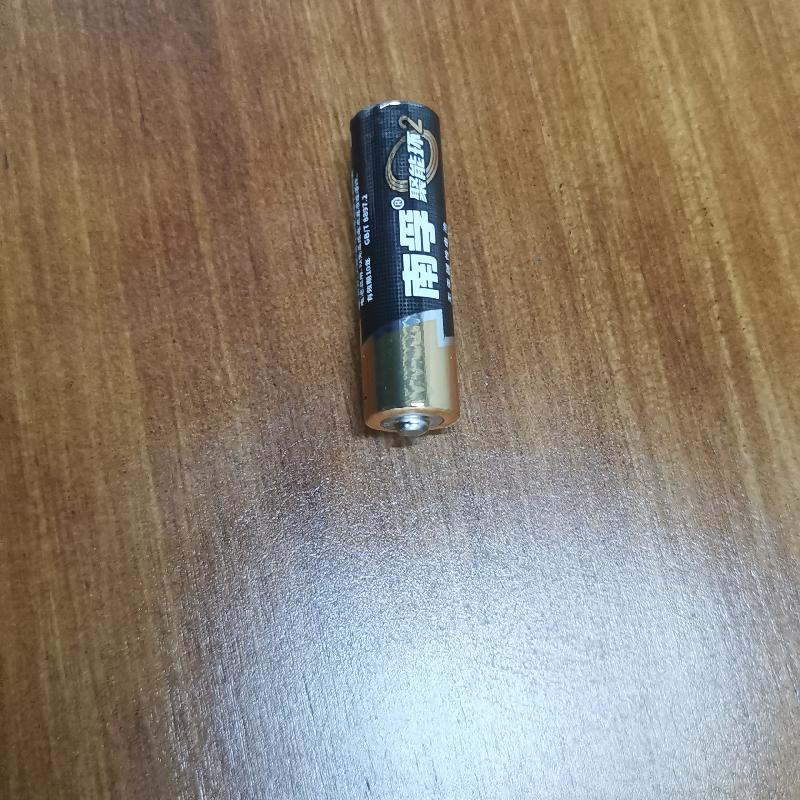battery: (340, 96, 473, 450)
